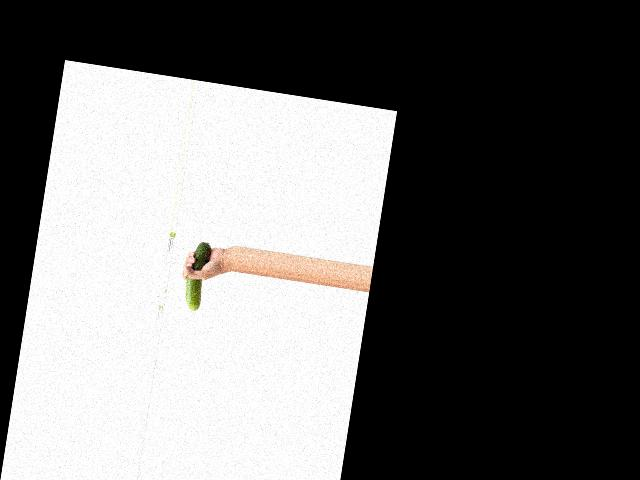cucumber: (181, 241, 211, 312)
